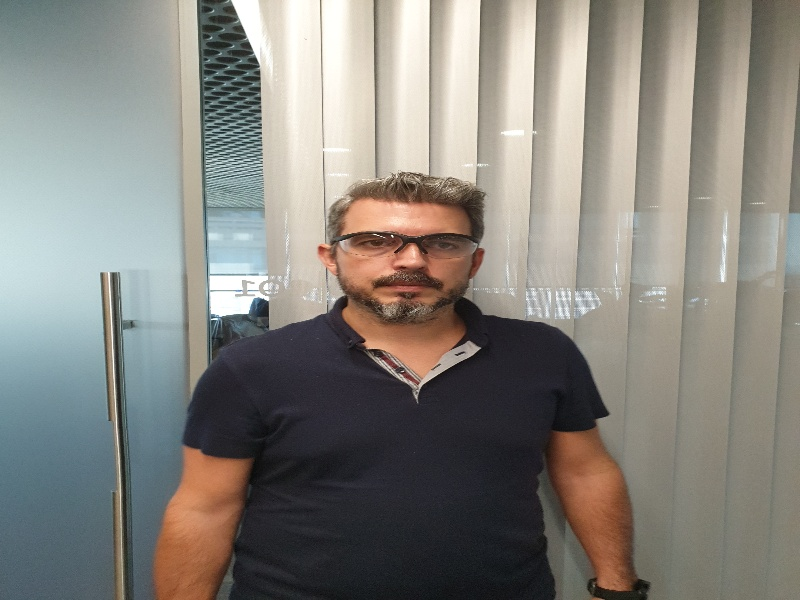Gozluk: (332, 231, 481, 258)
